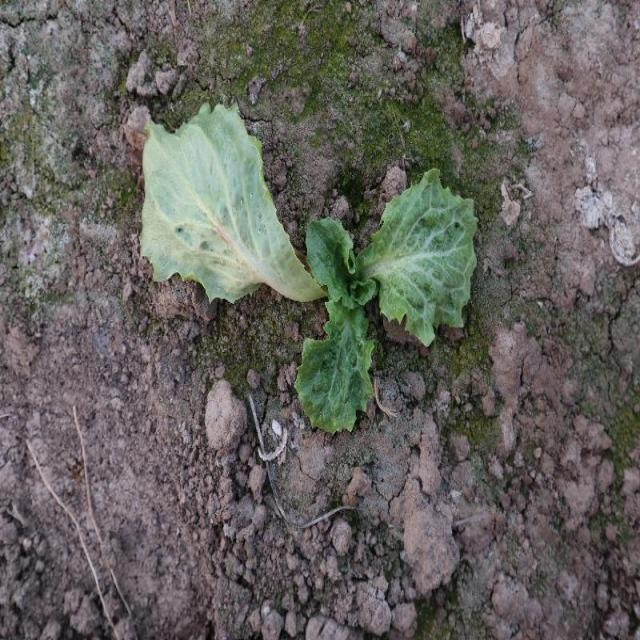crop: (138, 102, 480, 440)
